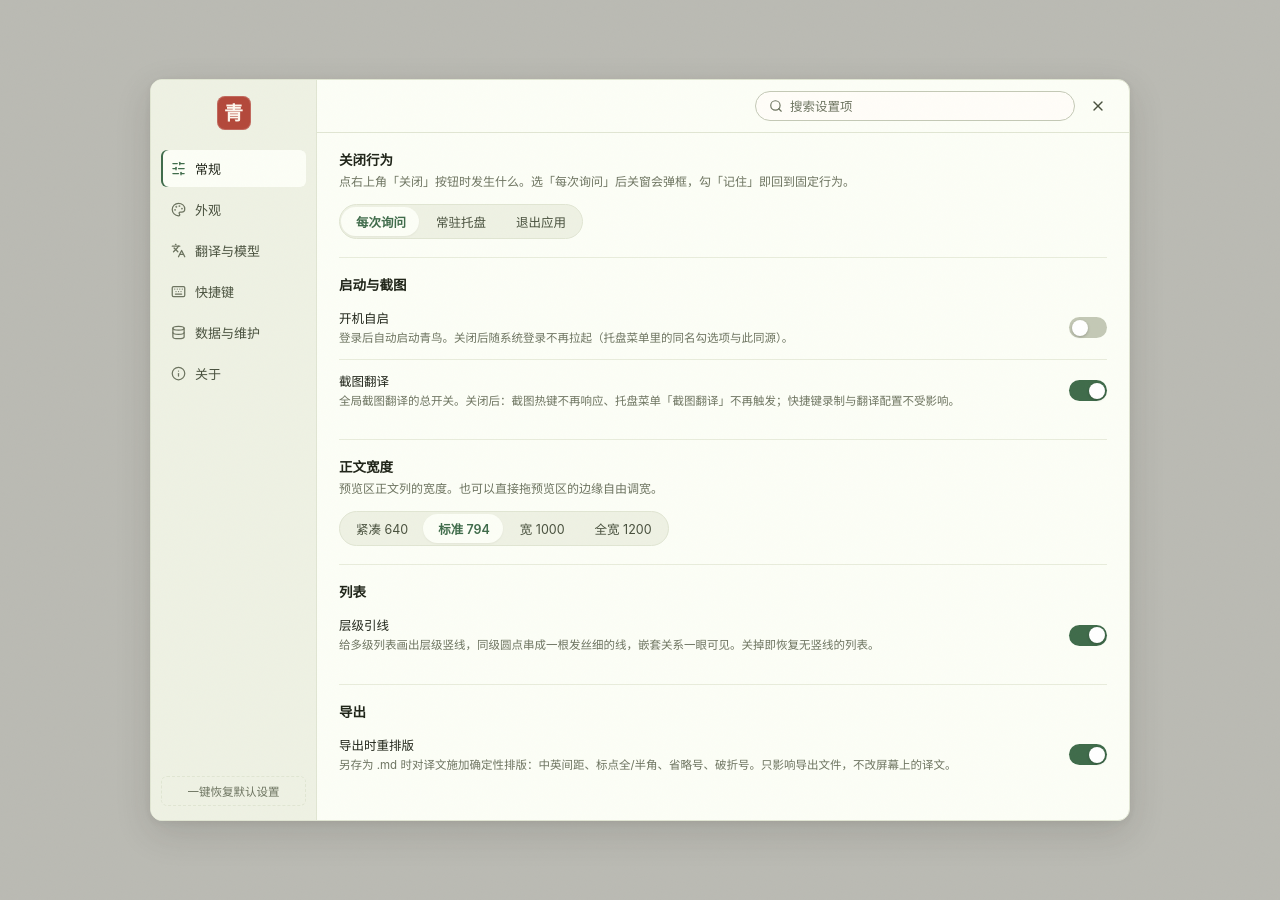
Test case: 设置面板骨架 › 六个分类 + 六张配色卡，默认落在常规页
Expected: the element with class "set-pane" shows "正文宽度", [339,459,393,475]
Expected: the element with class "set-pane" shows "层级引线", [339,618,389,633]
Step 1. Click the button with class "set-nav-item" showing "外观" → (234, 210), box [161,191,306,228]
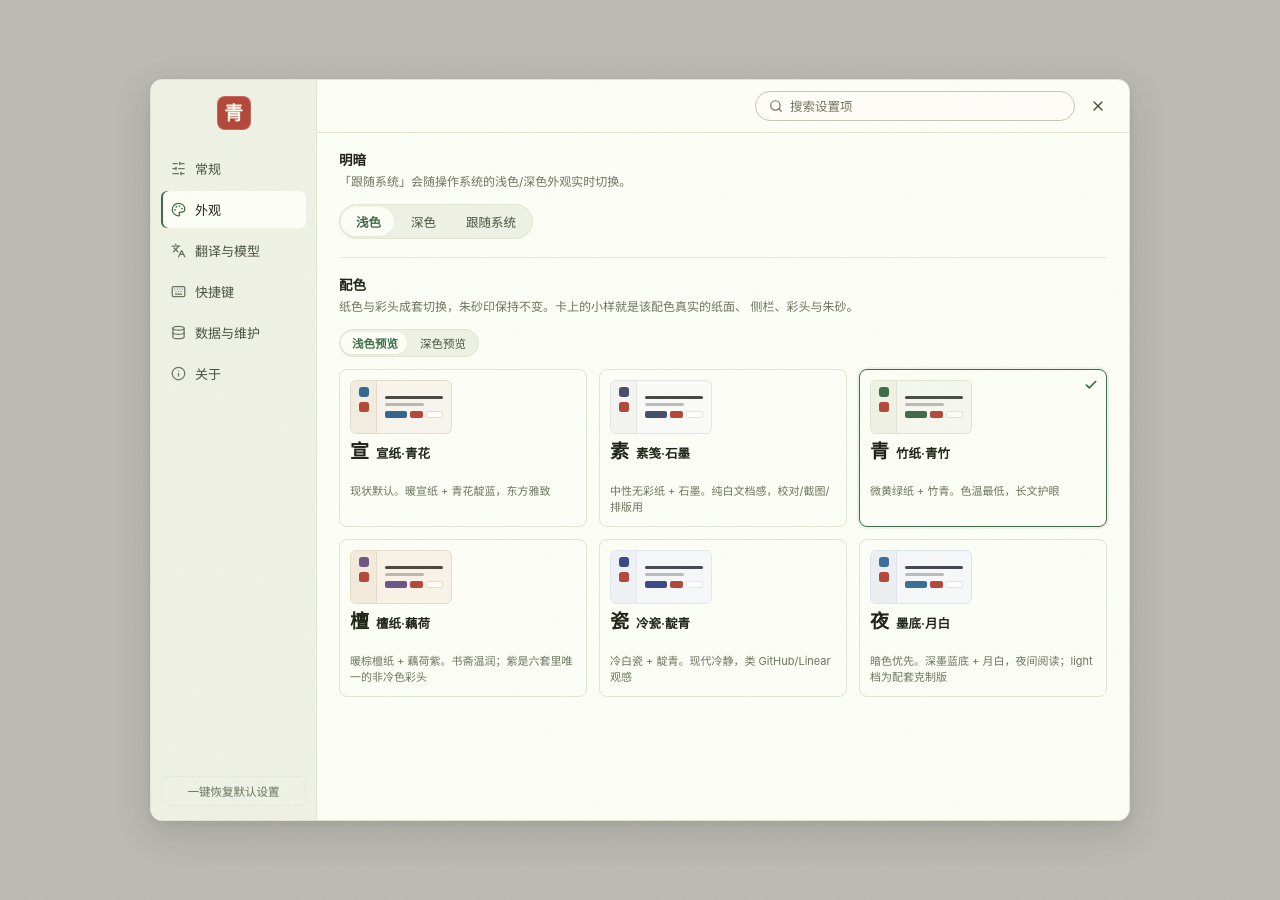
Now the button "青 竹纸·青竹 微黄绿纸 + 竹青。色温最低，长文护眼" is shown, box [859,369,1107,527]
